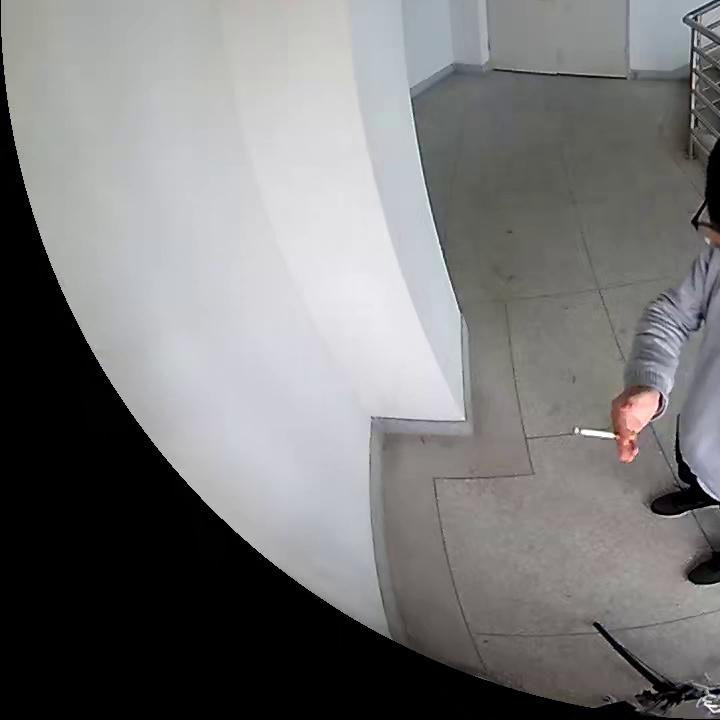handsmoke: (569, 391, 659, 463)
